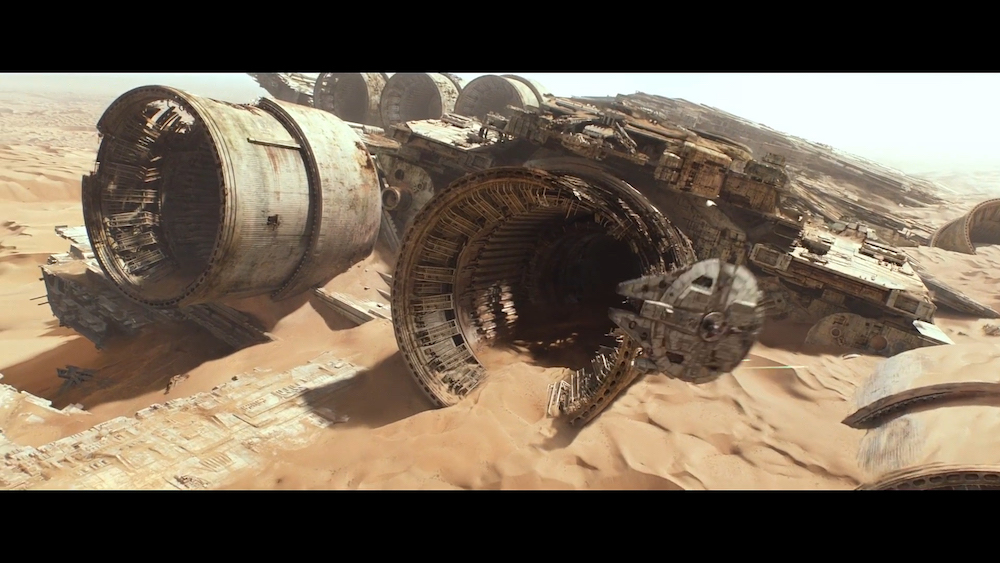Millennium Falcon: (605, 257, 765, 387)
